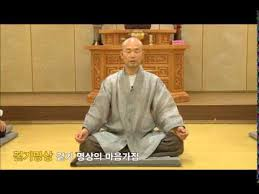hand: (173, 123, 194, 142), (72, 127, 91, 145)
